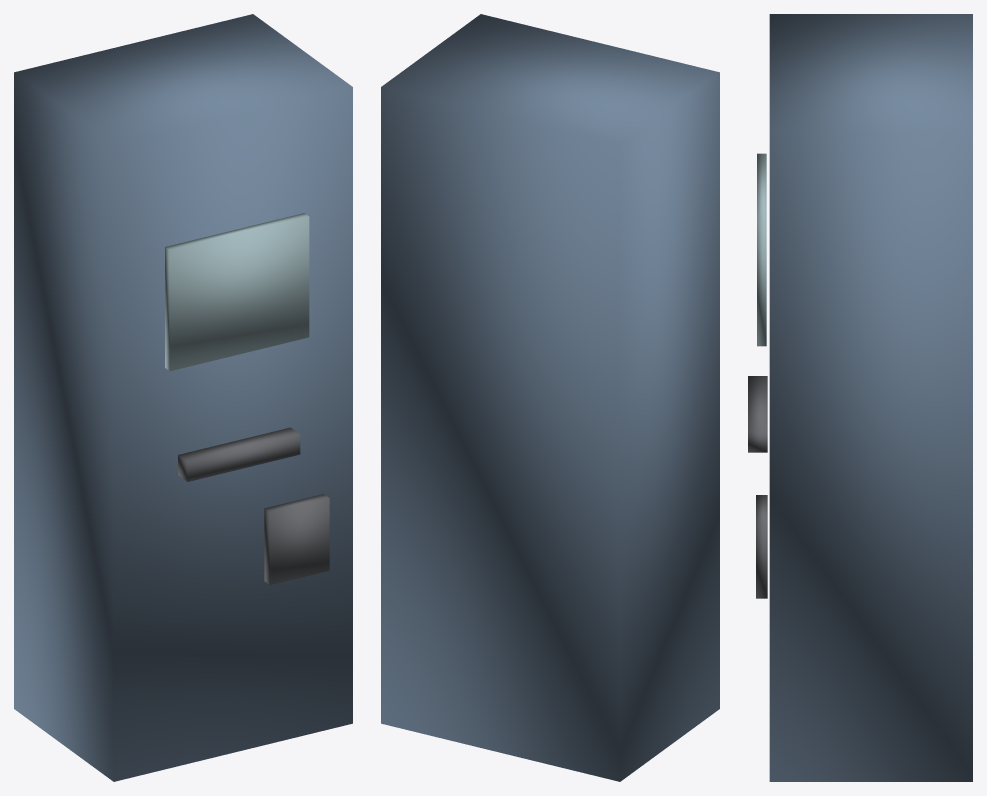
File: ticket_vending_machine__tall.glb
3 views of the same model, side by side, from view 1: azimuth 30°, elevation 25°; view 2: azimuth 150°, elevation 25°; view 3: azimuth 270°, elevation 25° (orthographic).
Visible parts, largest first — view 1: world; view 2: world; view 3: world.
Part boxes in pixels (x1=…): world: x1=14, y1=14, x2=352, y2=781; world: x1=381, y1=14, x2=719, y2=781; world: x1=748, y1=14, x2=972, y2=781.
Bounding box in the file's own units: 0.72 × 1.83 × 0.575.
